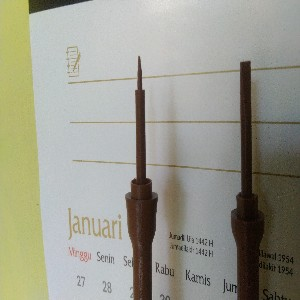obeng: (229, 60, 266, 300)
solder: (124, 54, 159, 300)
